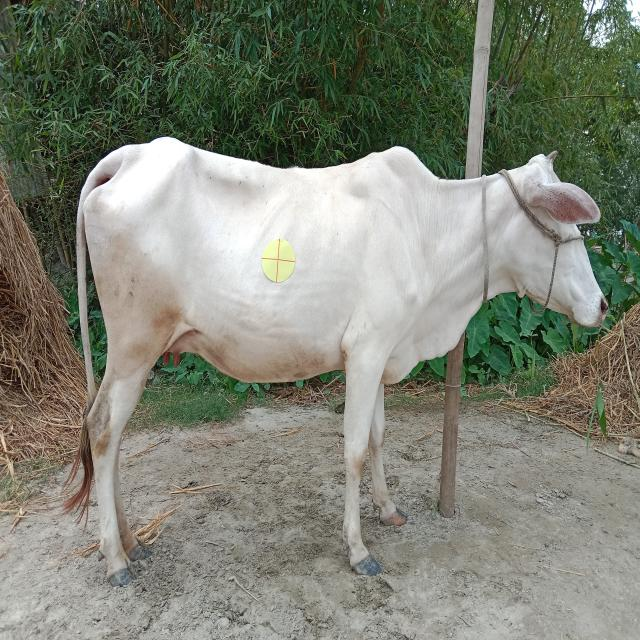badan_sapi: (85, 159, 429, 382)
sapi: (68, 132, 619, 599)
